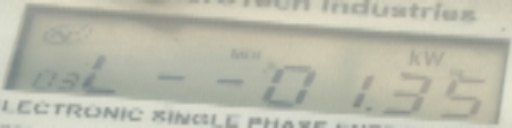0: (257, 58, 321, 116)
1: (345, 65, 376, 121)
3: (381, 65, 435, 123)
5: (445, 73, 488, 128)
d: (361, 102, 375, 117)
